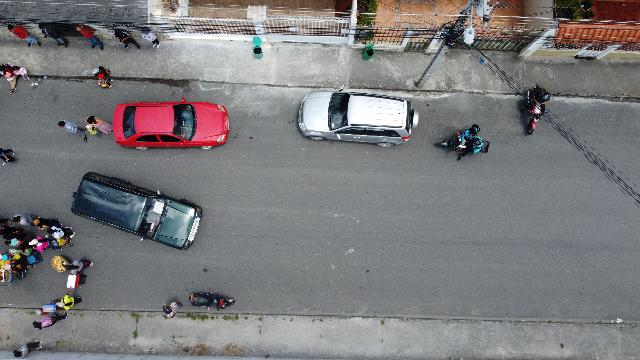Vehiculo: (69, 170, 209, 254), (297, 86, 418, 148), (113, 99, 229, 150)
